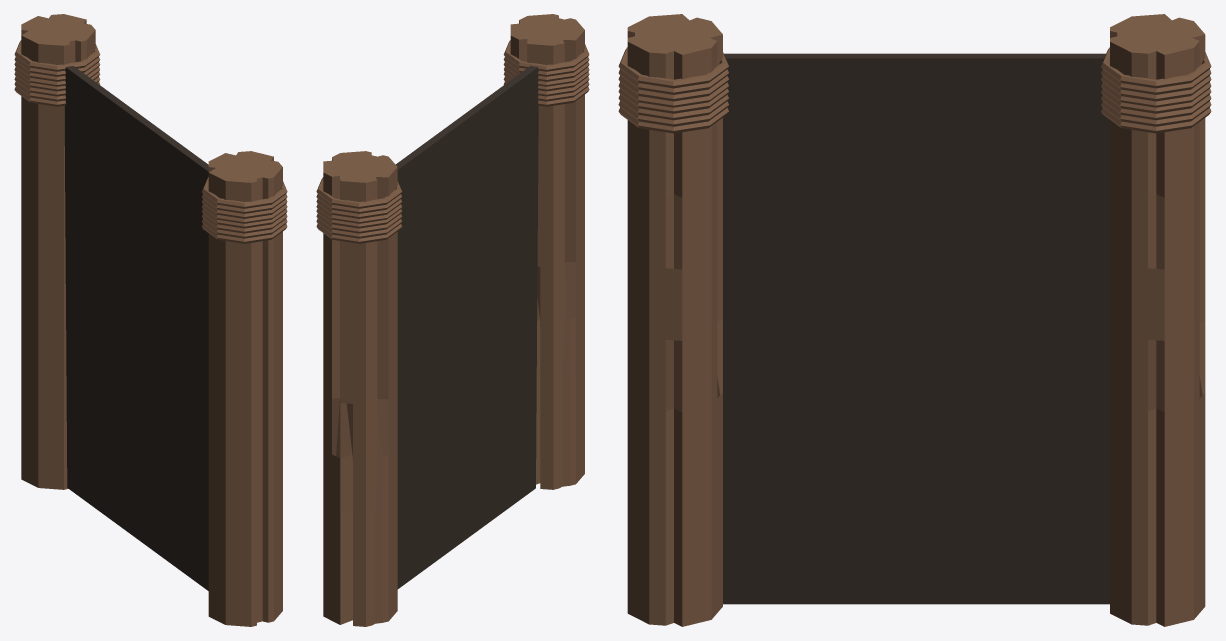
File: DropBridge.fbx
3 views of the same model, side by side, from view 1: azimuth 30°, elevation 25°; view 2: azimuth 150°, elevation 25°; view 3: azimuth 270°, elevation 25° (orthographic). The views are drawn at different scales.
Visible parts, largest first — view 1: DropBridge, DropBridgeSupportBeams; view 2: DropBridge, DropBridgeSupportBeams; view 3: DropBridge, DropBridgeSupportBeams.
Boxes of the visible parts, bbox=[...] form: DropBridge: bbox=[64, 66, 208, 590]; DropBridgeSupportBeams: bbox=[14, 14, 287, 626]; DropBridge: bbox=[395, 66, 538, 589]; DropBridgeSupportBeams: bbox=[316, 14, 589, 626]; DropBridge: bbox=[723, 53, 1109, 604]; DropBridgeSupportBeams: bbox=[618, 14, 1211, 626].
Bounding box in the file's own units: 221 × 1281 × 1204.
